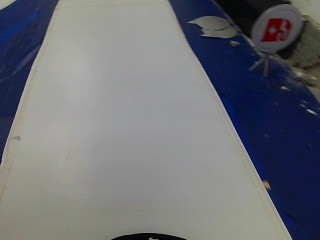battery: (250, 4, 301, 59)
